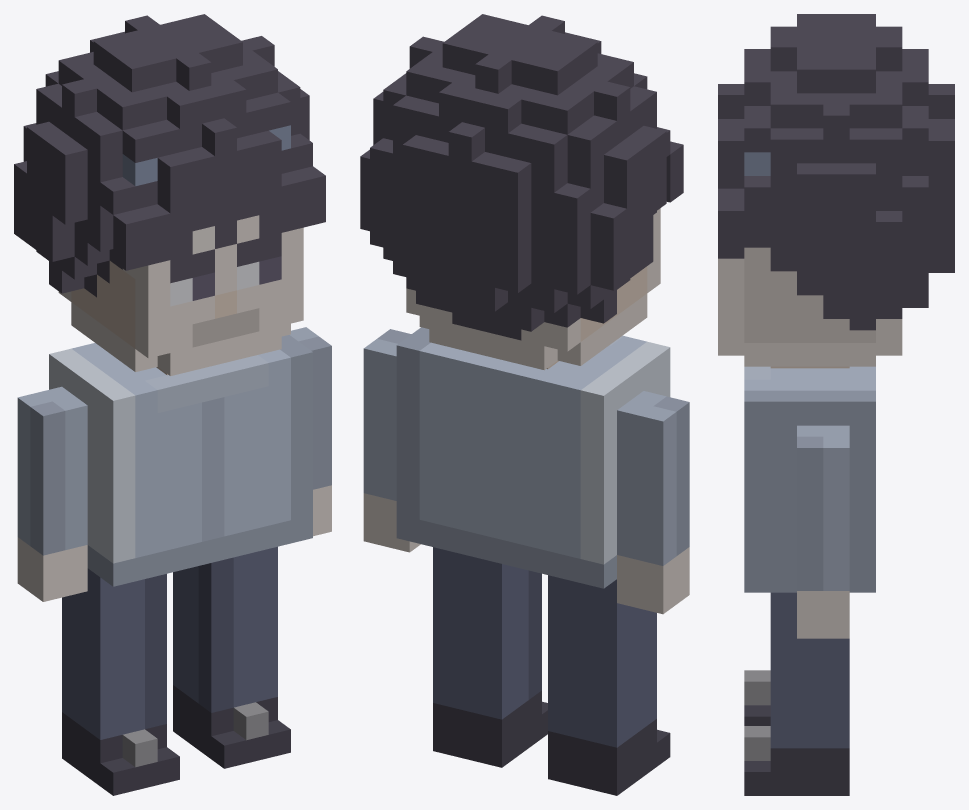
The model's file is vince.glb.
The picture shows the model from 3 angles, left to right: view 1: azimuth 30°, elevation 25°; view 2: azimuth 150°, elevation 25°; view 3: azimuth 270°, elevation 25°; orthographic projection. The views are drawn at different scales.
Visible parts, largest first — view 1: head, torso, legL, legR, armL, armR; view 2: head, torso, legR, legL, armL, armR; view 3: head, torso, legR, armR, legL.
Part boxes in pixels (<box>): head: <box>14,14,325,376</box>; torso: <box>49,335,312,586</box>; legL: <box>62,568,179,795</box>; legR: <box>173,546,290,768</box>; armL: <box>17,386,87,601</box>; armR: <box>289,327,331,536</box>; head: <box>360,14,683,370</box>; torso: <box>396,327,670,588</box>; legR: <box>433,547,547,767</box>; legL: <box>548,575,670,795</box>; armL: <box>617,391,689,614</box>; armR: <box>363,329,420,552</box>; head: <box>718,14,954,366</box>; torso: <box>744,366,875,592</box>; legR: <box>744,592,849,795</box>; armR: <box>797,425,849,638</box>; legL: <box>744,670,770,725</box>.
Size of the model in its own units: 0.8125 by 1.88 by 0.5625.
